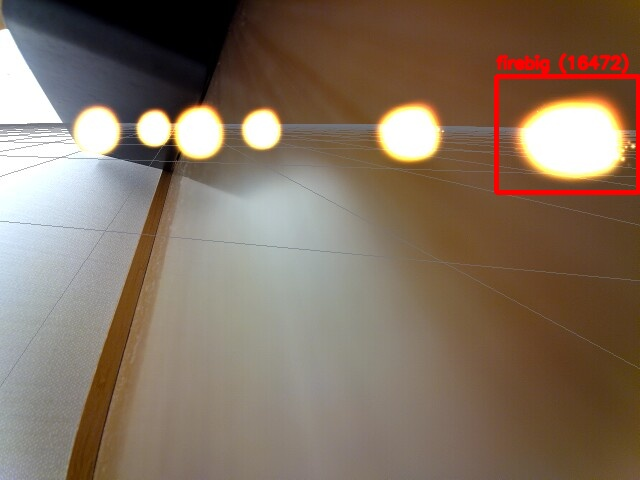firebig: (496, 76, 638, 192)
